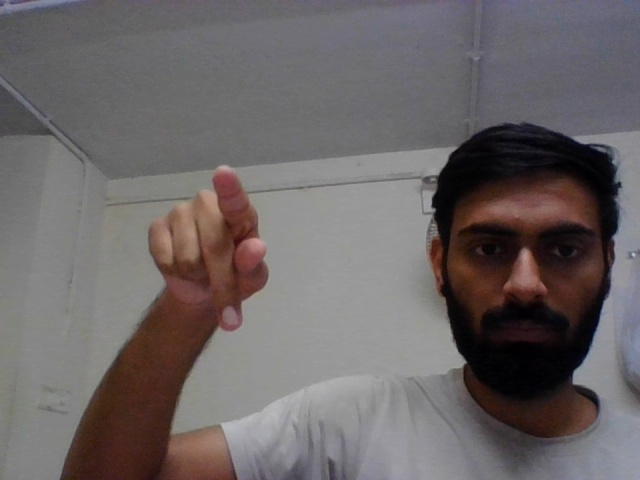P: (141, 161, 273, 336)
